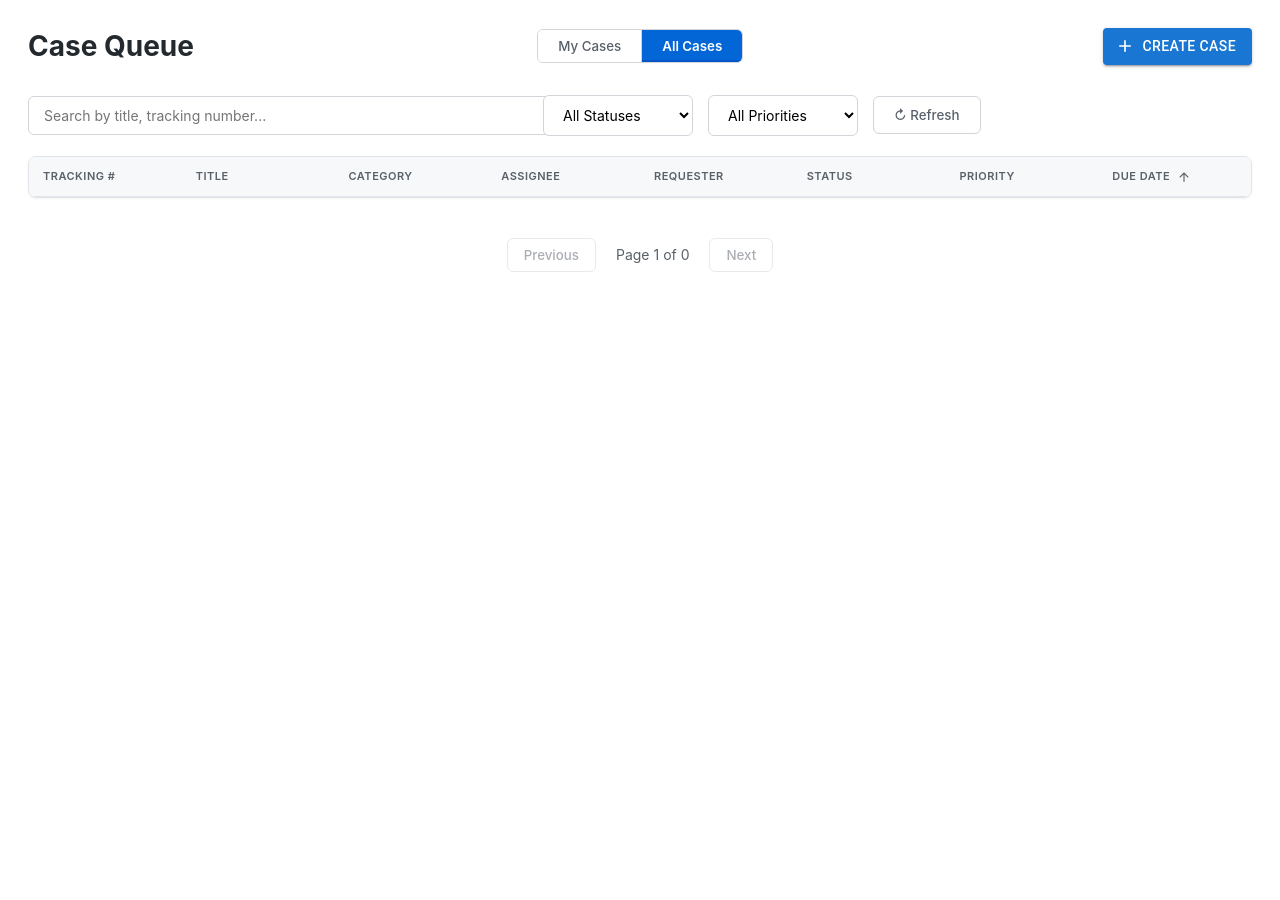
CaseQueue — Create Case dialog › surfaces backend detail when create fails
Click the button "Create Case": (1177, 46) 1102,28 -> 1252,64
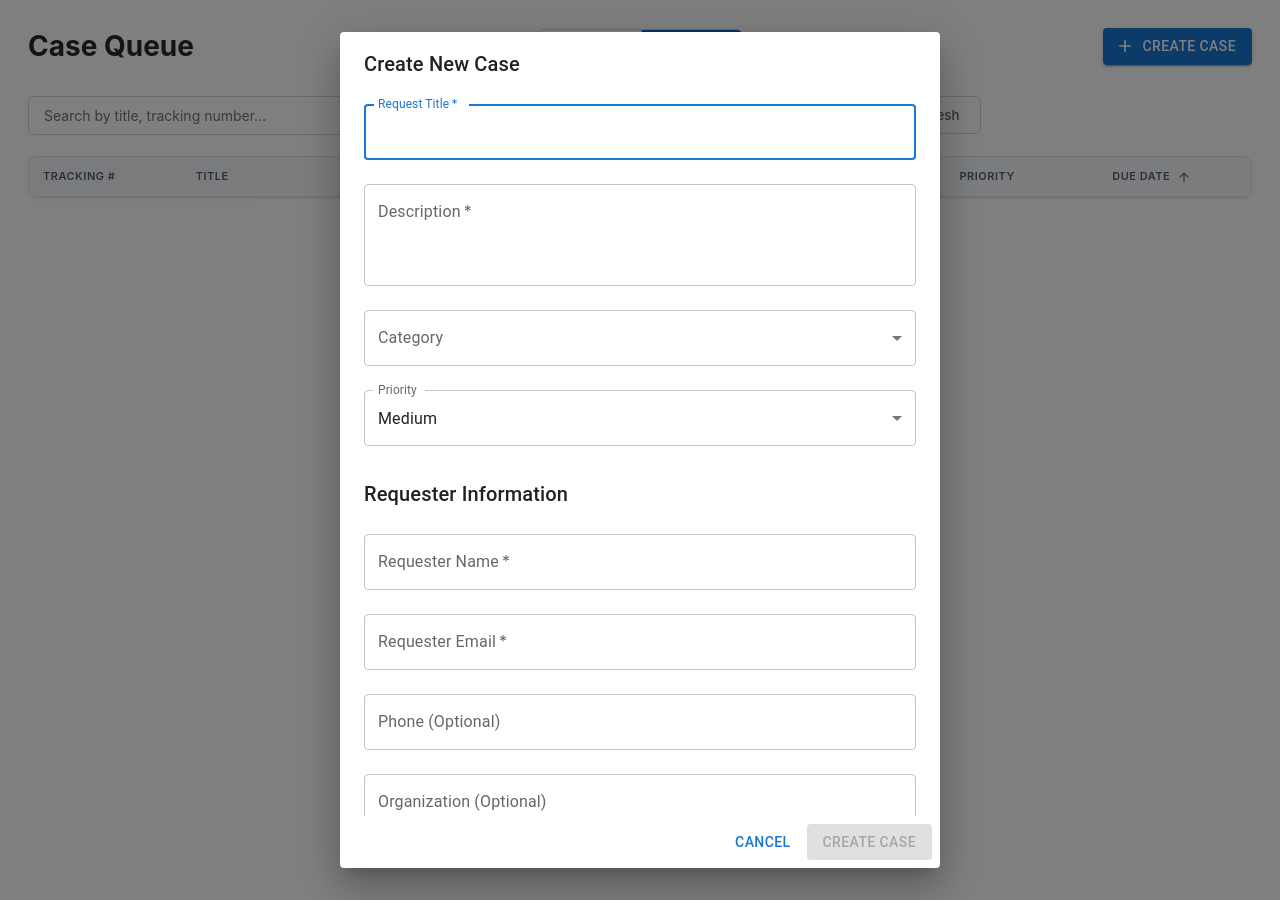
In the field labelled "Request Title *": (640, 132) 364,104 -> 916,160, type "T"
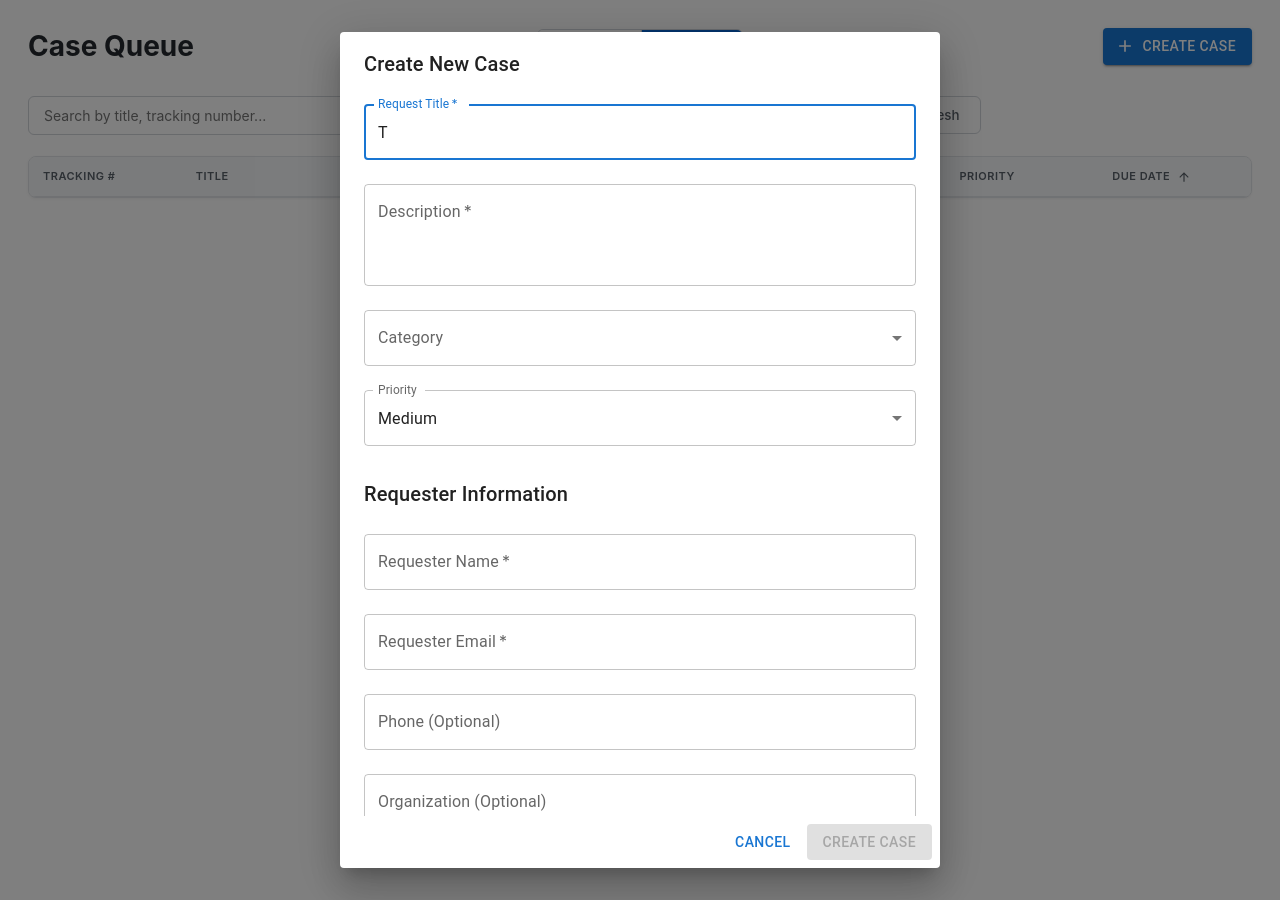
In the text box labelled "Description *": (640, 235) 378,200 -> 902,270, type "D"
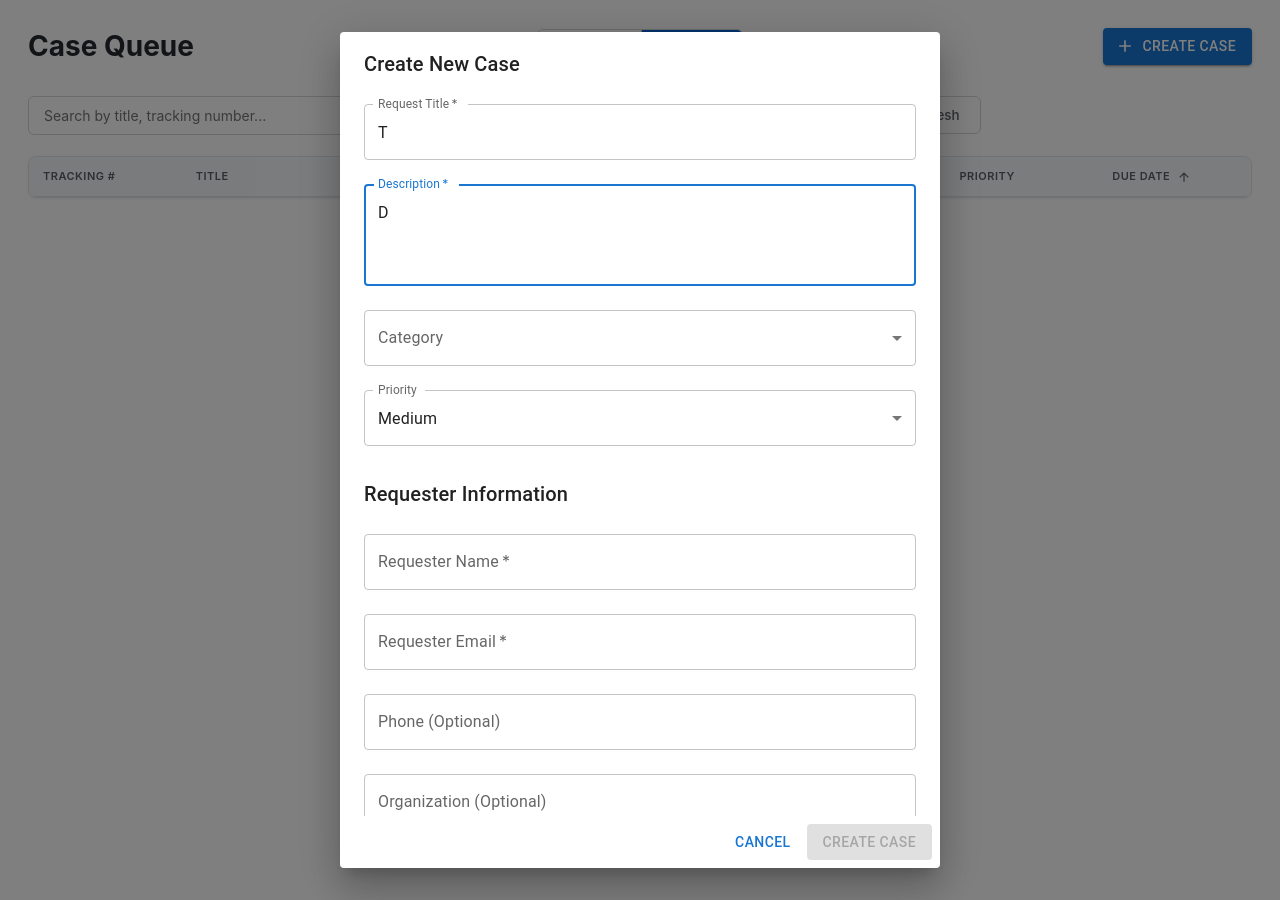
In the field labelled "Requester Name *": (640, 562) 364,534 -> 916,590, type "N"
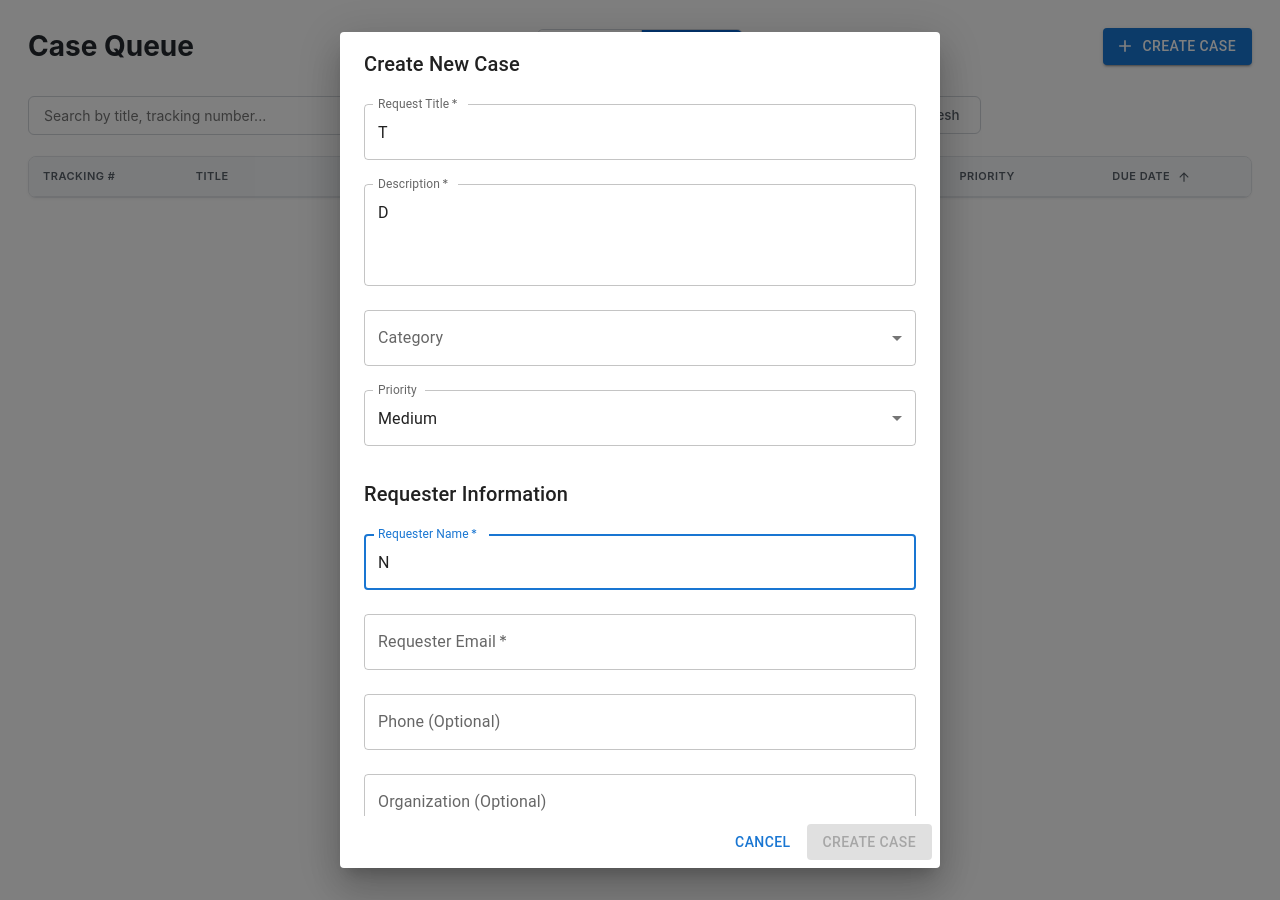
In the field labelled "Requester Email *": (640, 642) 364,614 -> 916,670, type "e@x.com"
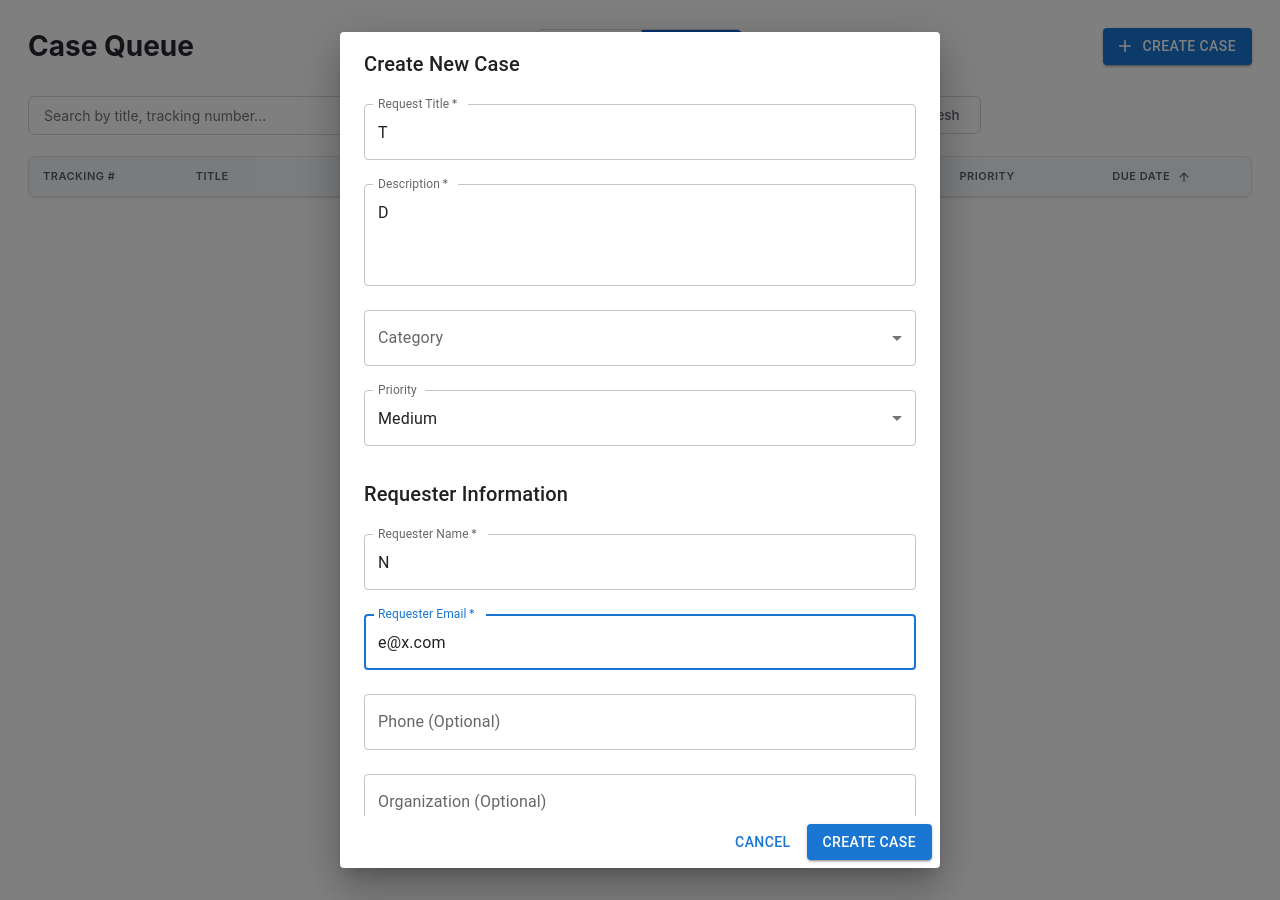
Click the button "Create Case": (869, 842) 807,824 -> 932,860
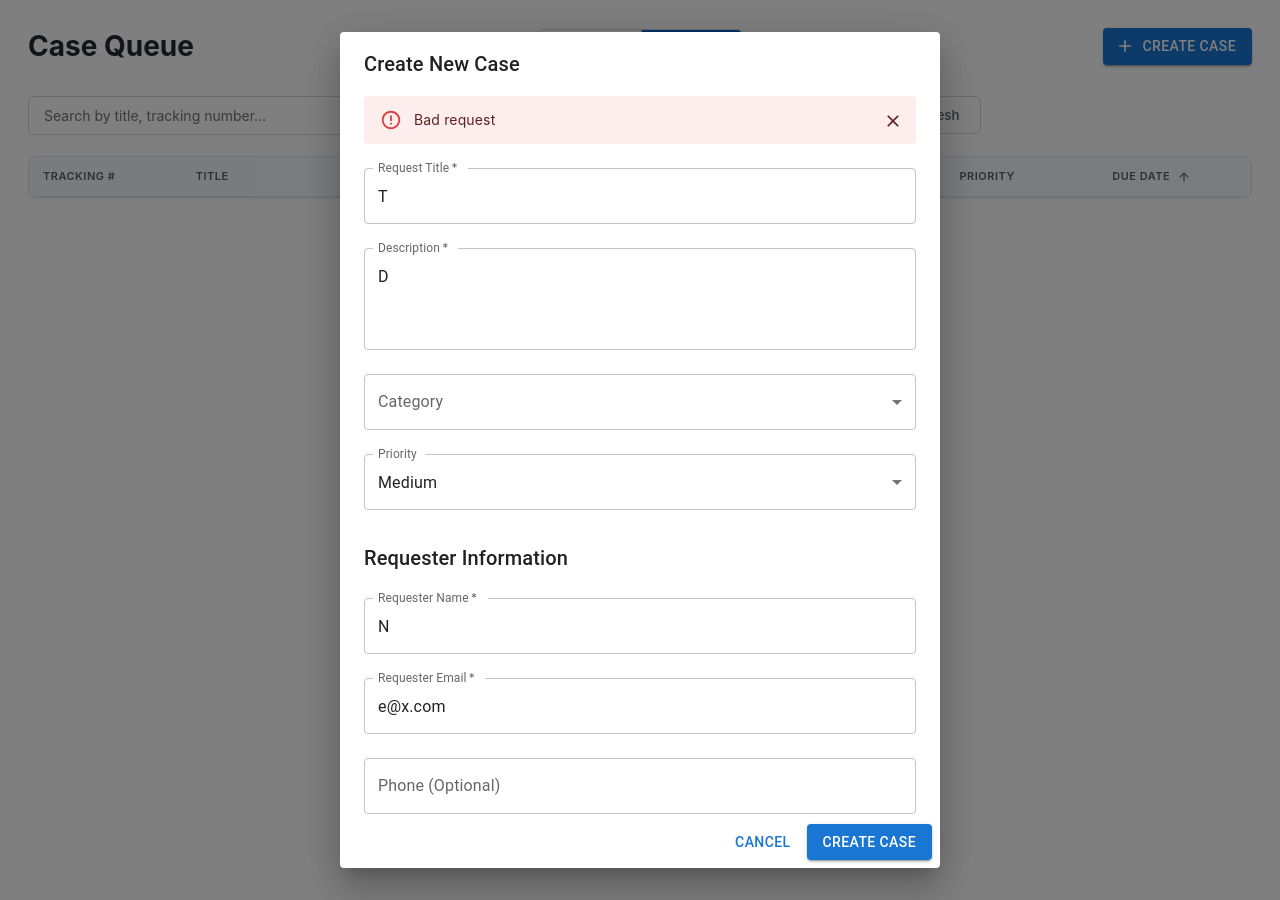
Result: the text "Bad request" is shown at 414,111 -> 495,128
